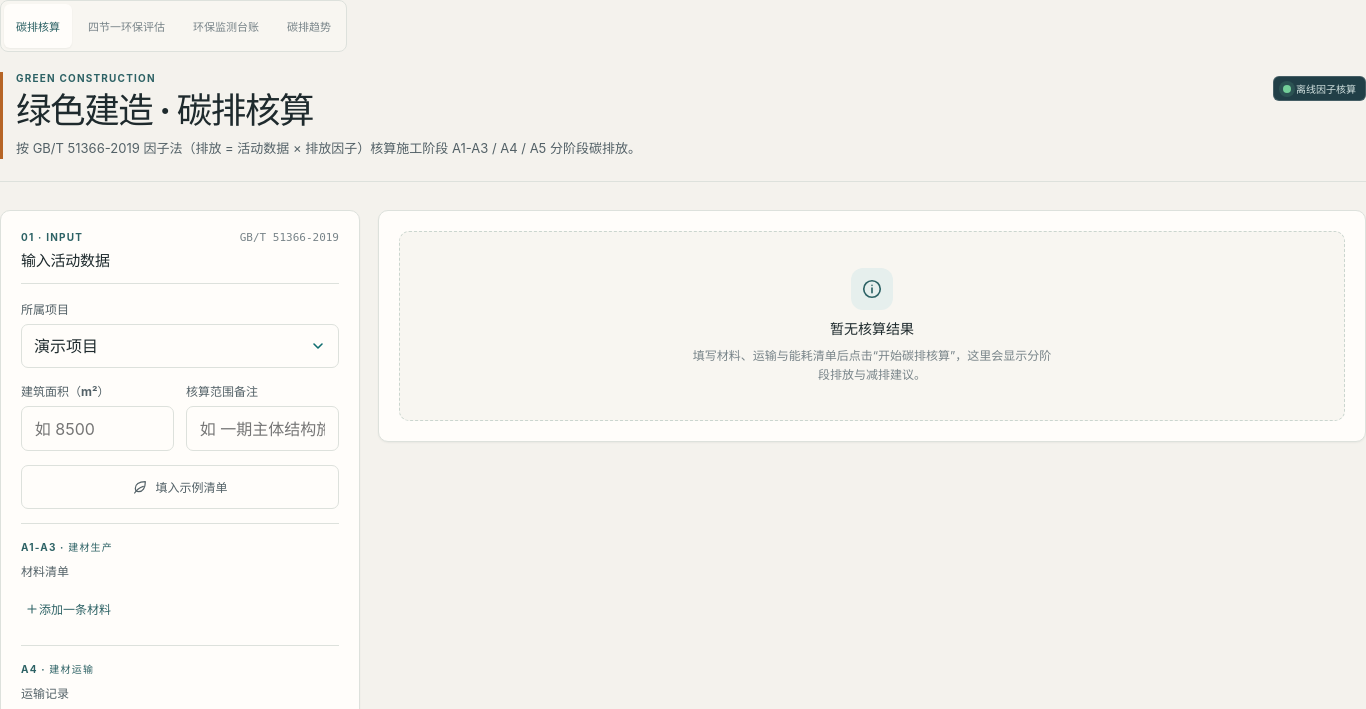
Test: GreenConstructionView 扩展 Tab › 渲染四个绿色模块 Tab，并可切换到四节一环保评估
Click the button "四节一环保评估" at (126, 26), box x1=76 y1=4 x2=177 y2=48
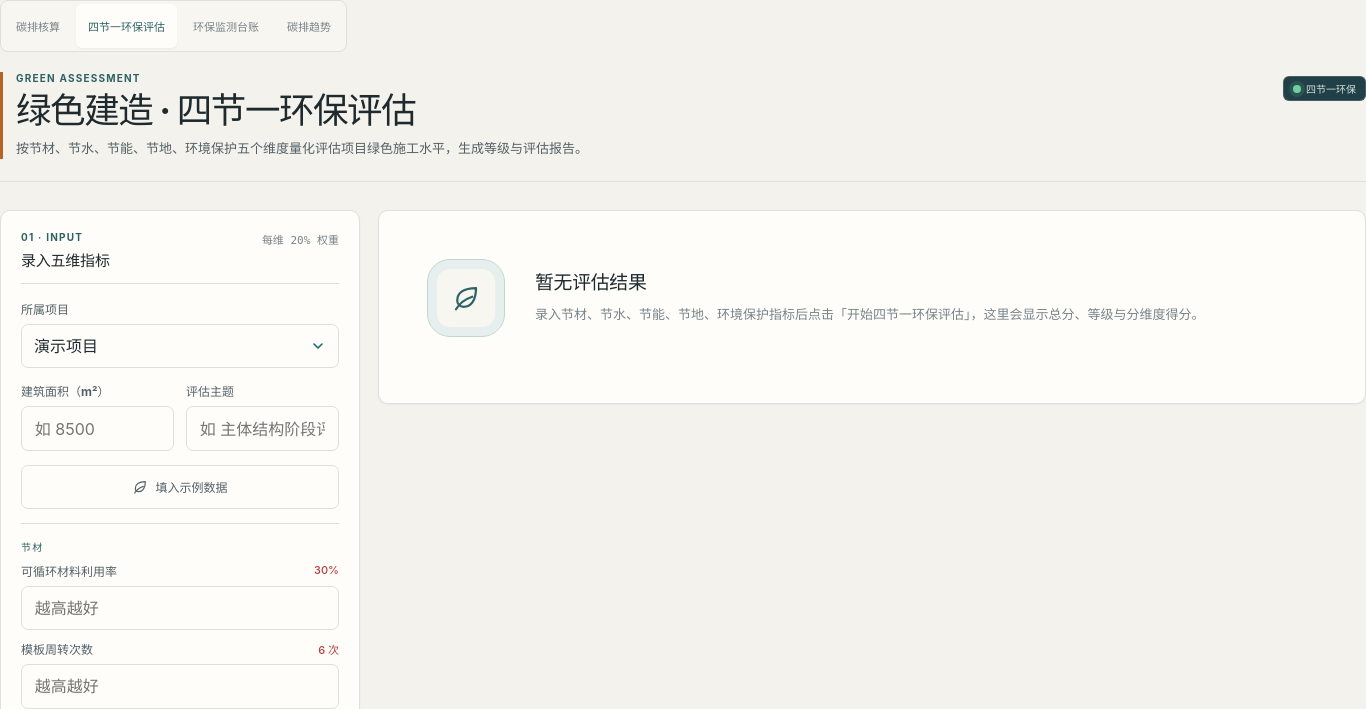
Expected: the text "录入五维指标" is shown, x1=21 y1=251 x2=110 y2=271
